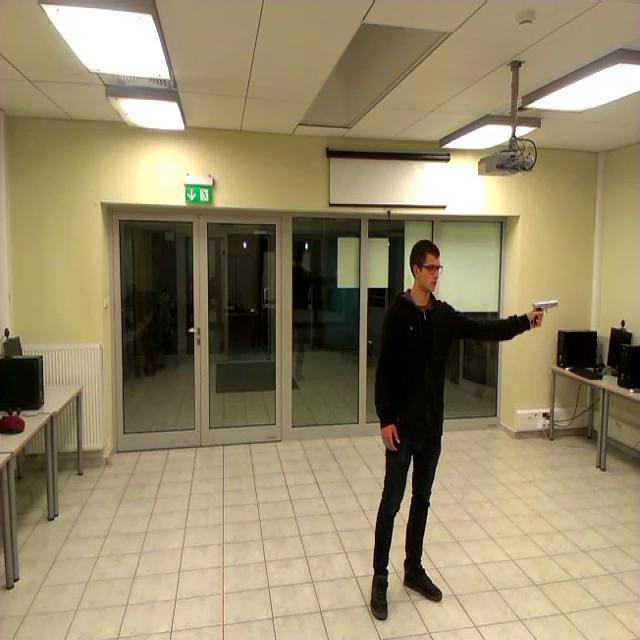Gun: (532, 298, 560, 326)
